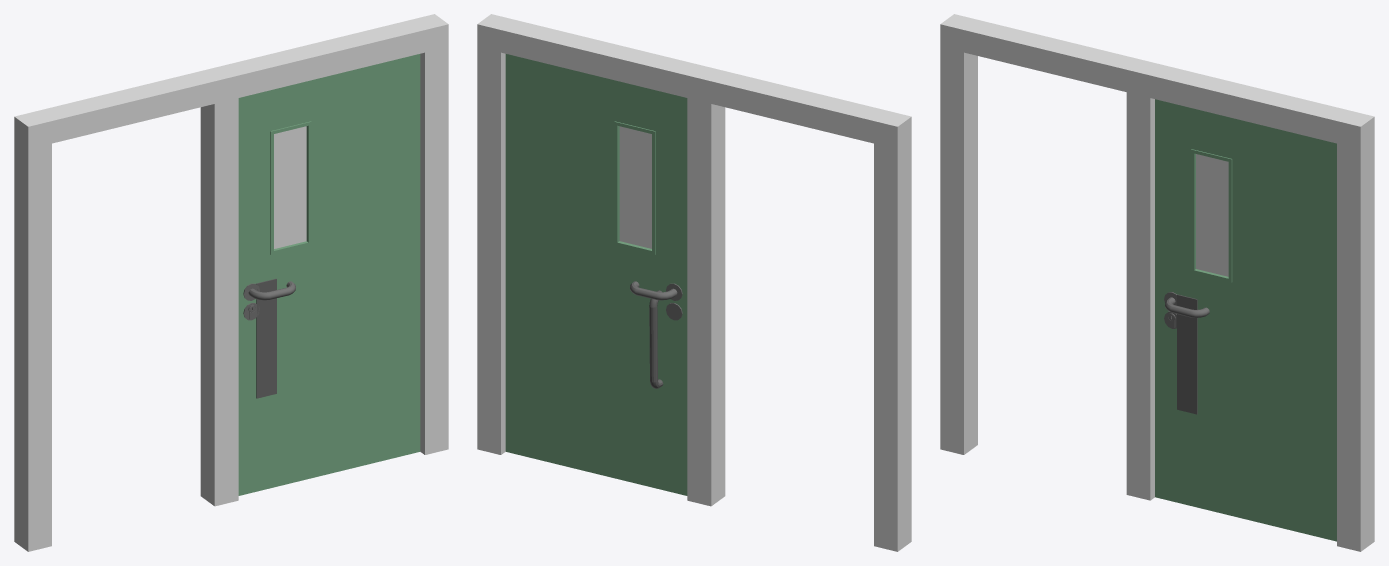
Rendered from Hospital_Door.fbx.
3 renders of one model, left to right at view 1: azimuth 30°, elevation 25°; view 2: azimuth 150°, elevation 25°; view 3: azimuth 330°, elevation 25°, orthographic.
Visible parts, largest first — view 1: Door, Double_Door_Frame, Single_Door_Frame, Window, Simple_Handle; view 2: Door, Double_Door_Frame, Single_Door_Frame, Window, Simple_Handle; view 3: Door, Double_Door_Frame, Single_Door_Frame, Window, Simple_Handle.
Part boxes in pixels (bbox=[...]): Door: bbox=[238, 54, 420, 495]; Double_Door_Frame: bbox=[14, 14, 448, 551]; Single_Door_Frame: bbox=[200, 14, 446, 506]; Window: bbox=[274, 126, 306, 248]; Simple_Handle: bbox=[256, 278, 276, 398]; Door: bbox=[505, 54, 687, 495]; Double_Door_Frame: bbox=[477, 14, 911, 551]; Single_Door_Frame: bbox=[478, 15, 725, 506]; Window: bbox=[619, 126, 651, 248]; Simple_Handle: bbox=[649, 290, 663, 388]; Door: bbox=[1155, 99, 1336, 541]; Double_Door_Frame: bbox=[940, 14, 1374, 551]; Single_Door_Frame: bbox=[1126, 60, 1372, 500]; Window: bbox=[1196, 154, 1228, 276]; Simple_Handle: bbox=[1177, 294, 1197, 414].
Bounding box in the file's own units: 2.07 × 2 × 0.2224.
